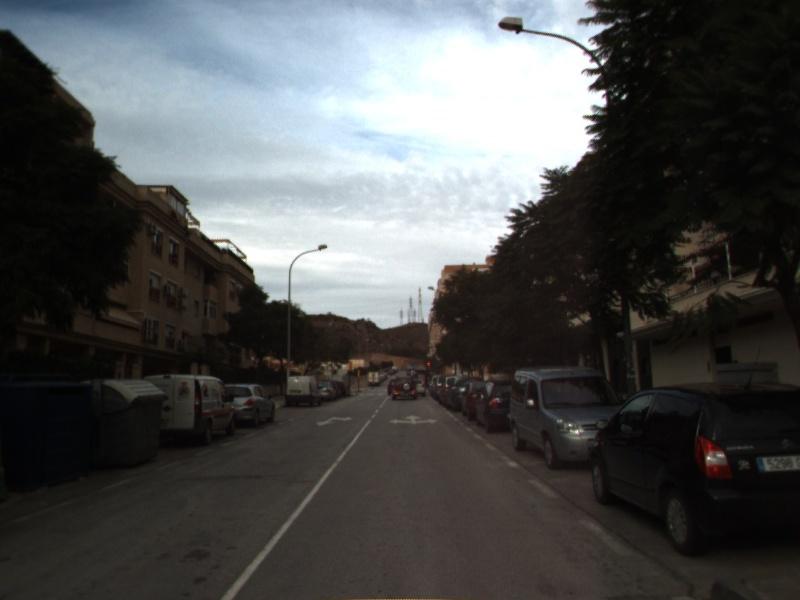STRAIGHT_LEFT_RIGHT: (387, 412, 440, 427)
